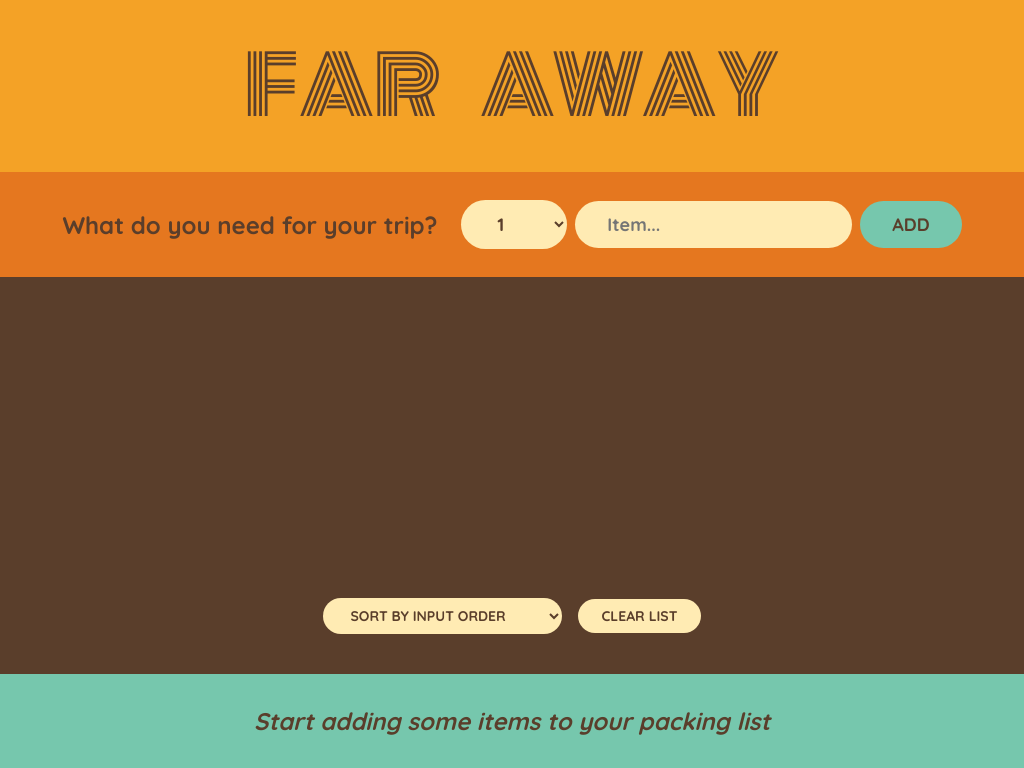
it: App integration tests › adds a new item to the list
This screenshot has width=1024, height=768.
Type "Toothbrush" into the field with placeholder "Item..." at coordinates (714, 224), box [575,201,852,248]
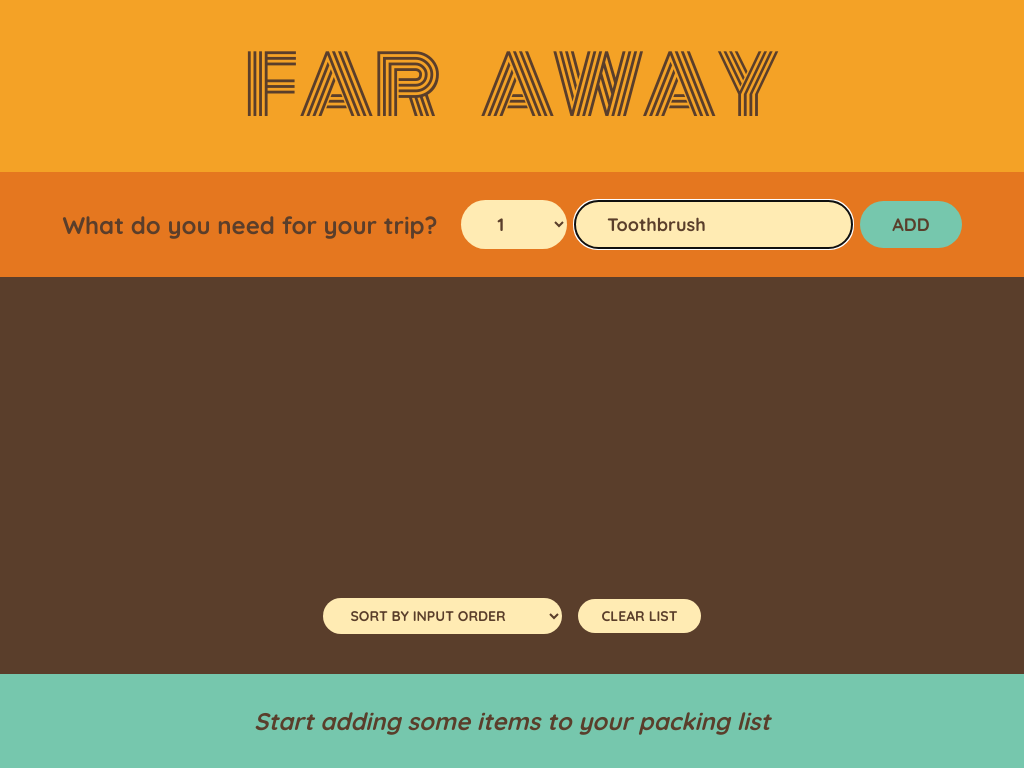
Click the button "Add" at coordinates (911, 224), box [860,201,962,248]
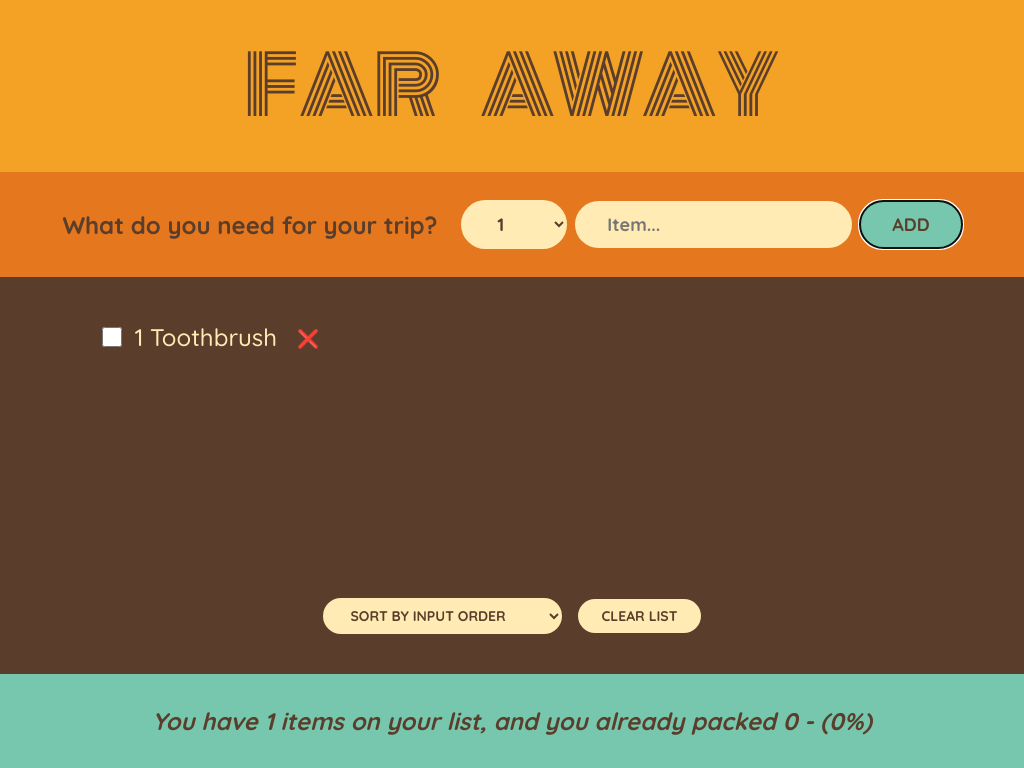
Expected: the text "1 Toothbrush" is shown, [134,322,277,352]
